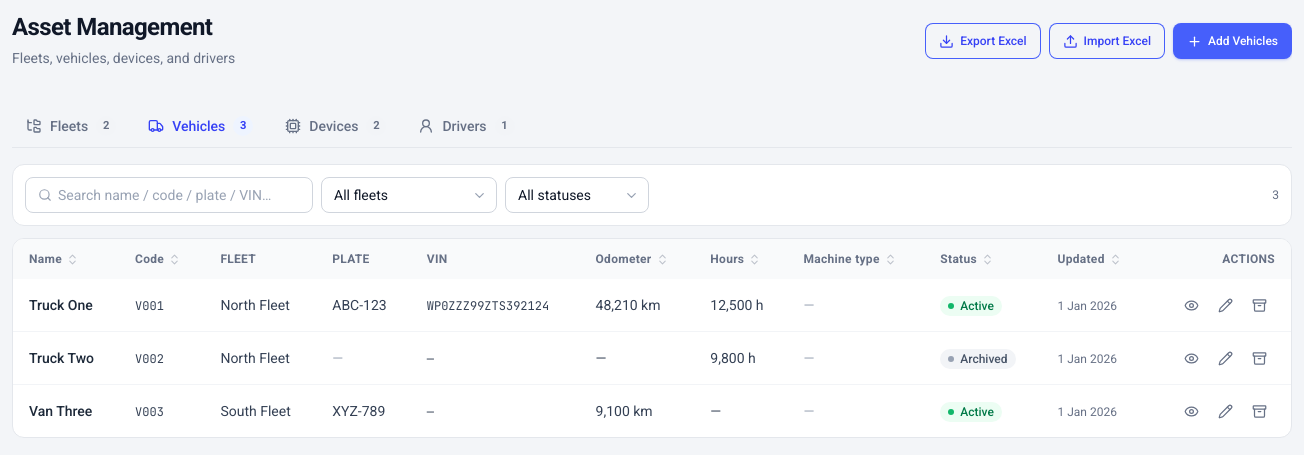
Test: AssetManagementPage › switches to the devices tab and renders the registry columns
This screenshot has width=1304, height=455.
Expected: the heading "Asset Management" is shown, left=12, top=12, right=235, bottom=42
Click the tab "Devices 2": (336, 127) left=271, top=106, right=400, bottom=148
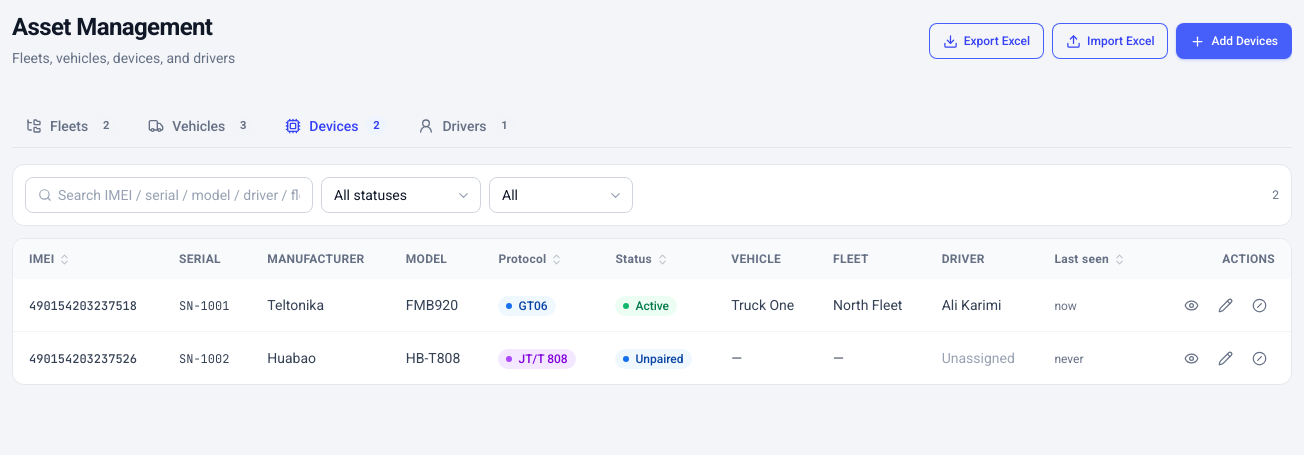
Now the text "490154203237518" is shown, box left=29, top=298, right=137, bottom=314
Now the text "490154203237526" is shown, box left=29, top=351, right=137, bottom=367
Now the text "never" is shown, box left=1054, top=352, right=1084, bottom=366
